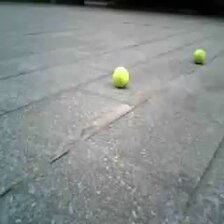tennis: (112, 67, 129, 85), (194, 49, 206, 62)
